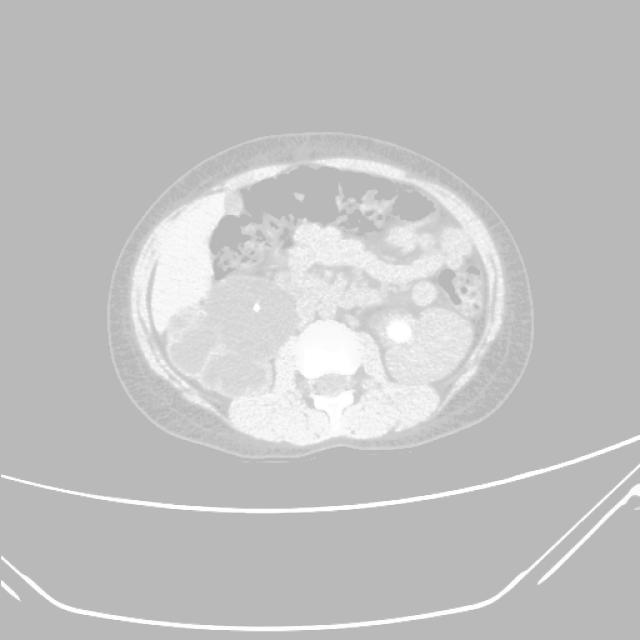STONE: (232, 139, 494, 304)
